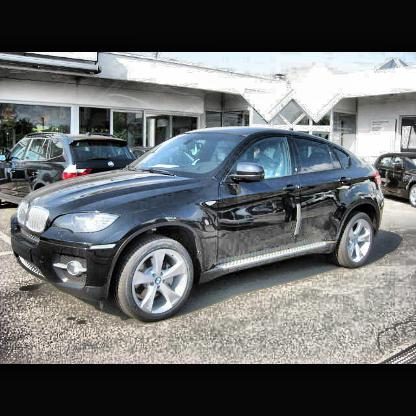BMW X6 SUV 2012: (12, 127, 387, 322)
